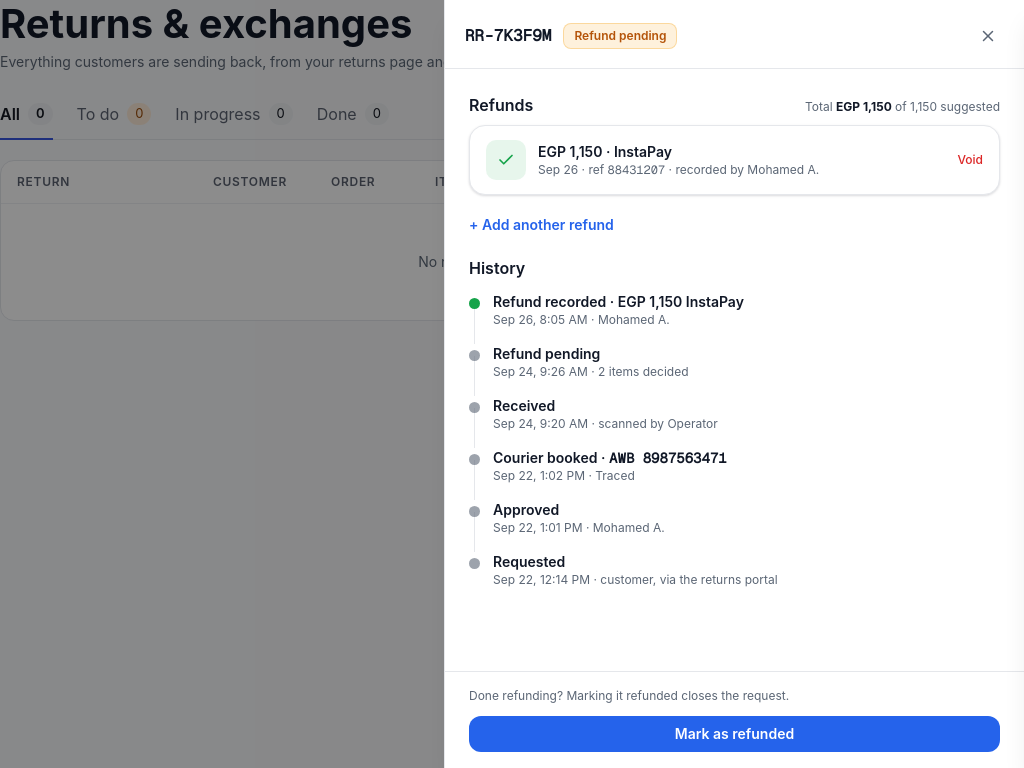
Test case: R2 — refunds recorded and history › + Add another refund shows the form again
expect the element with test id "return-request-drawer-body" is shown: met, box top-left (445, 69), bottom-right (1023, 671)
expect the element with test id "refunds-list" is shown: met, box top-left (469, 93), bottom-right (1000, 195)
Click the button with test id "add-refund" at (541, 225), box top-left (469, 215), bottom-right (614, 235)
(page scrolled)
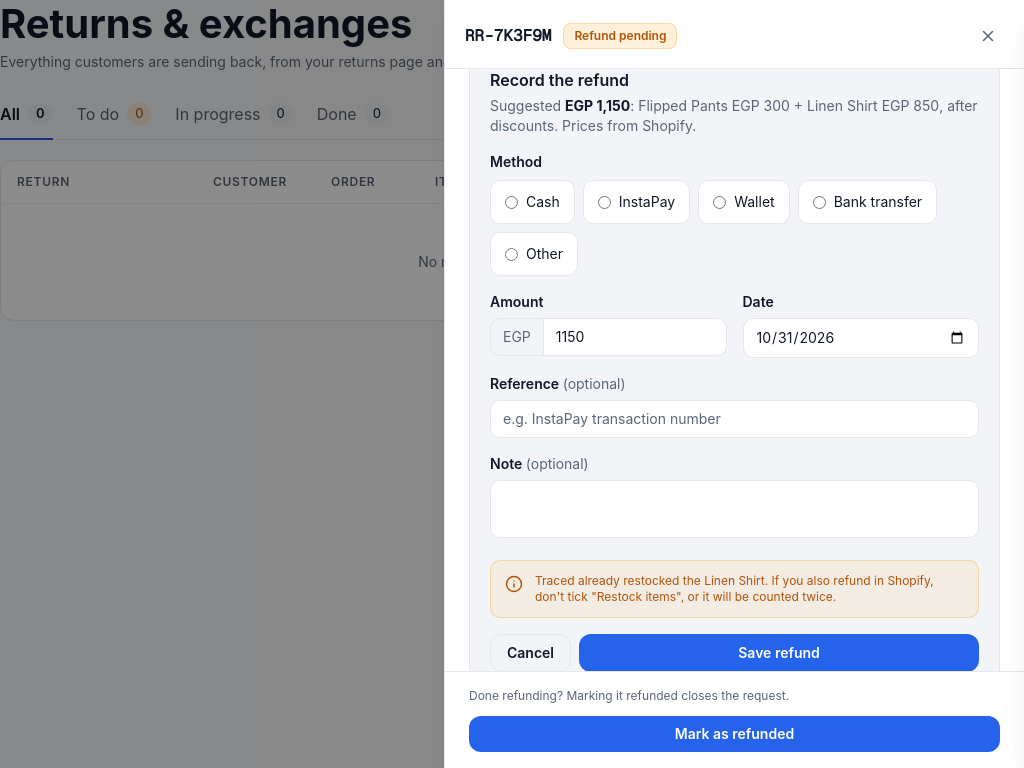
expect the form with test id "refund-form" is shown: met, box top-left (469, 69), bottom-right (1000, 671)
